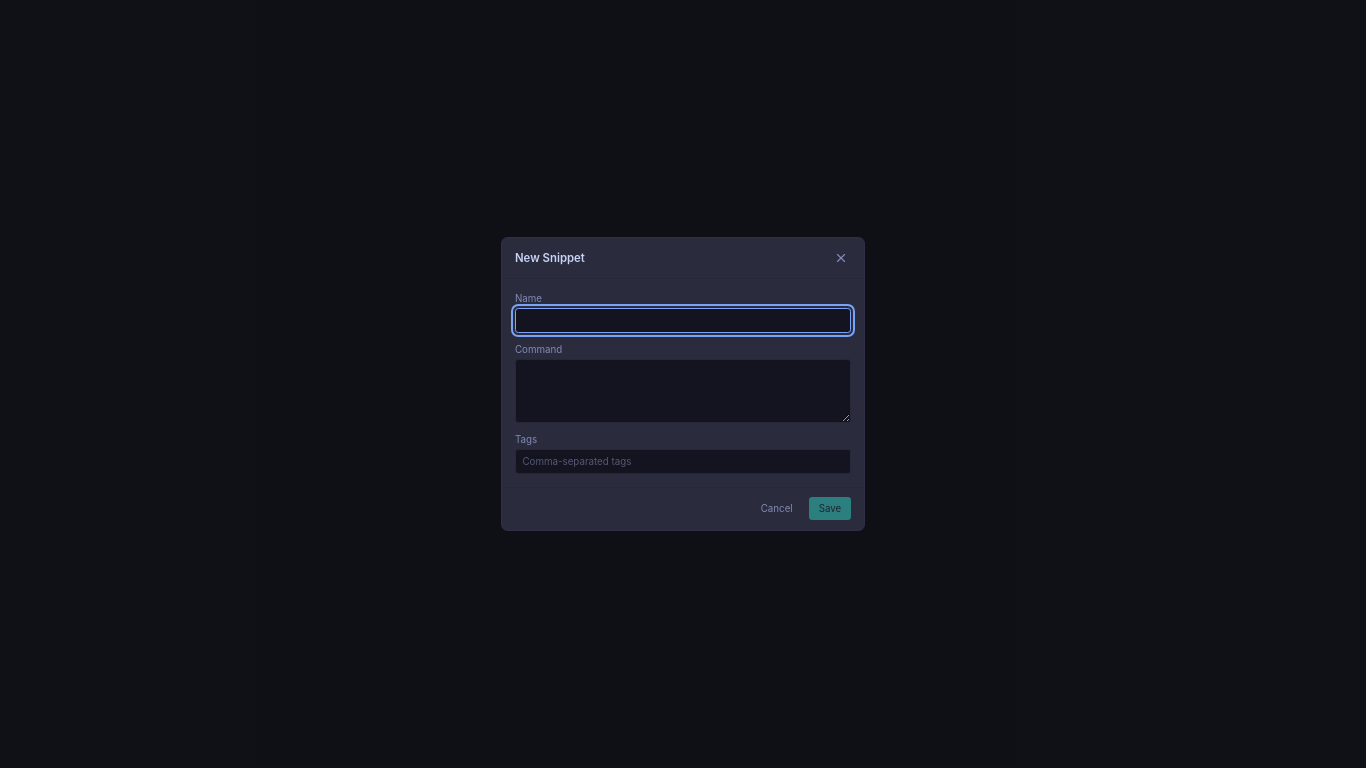
Test: SnippetEditor › enables Save once name and command are both filled in
The width and height of the screenshot is (1366, 768).
Type "My Snippet" into the field labelled "Name" at [683, 321], box left=515, top=308, right=851, bottom=333
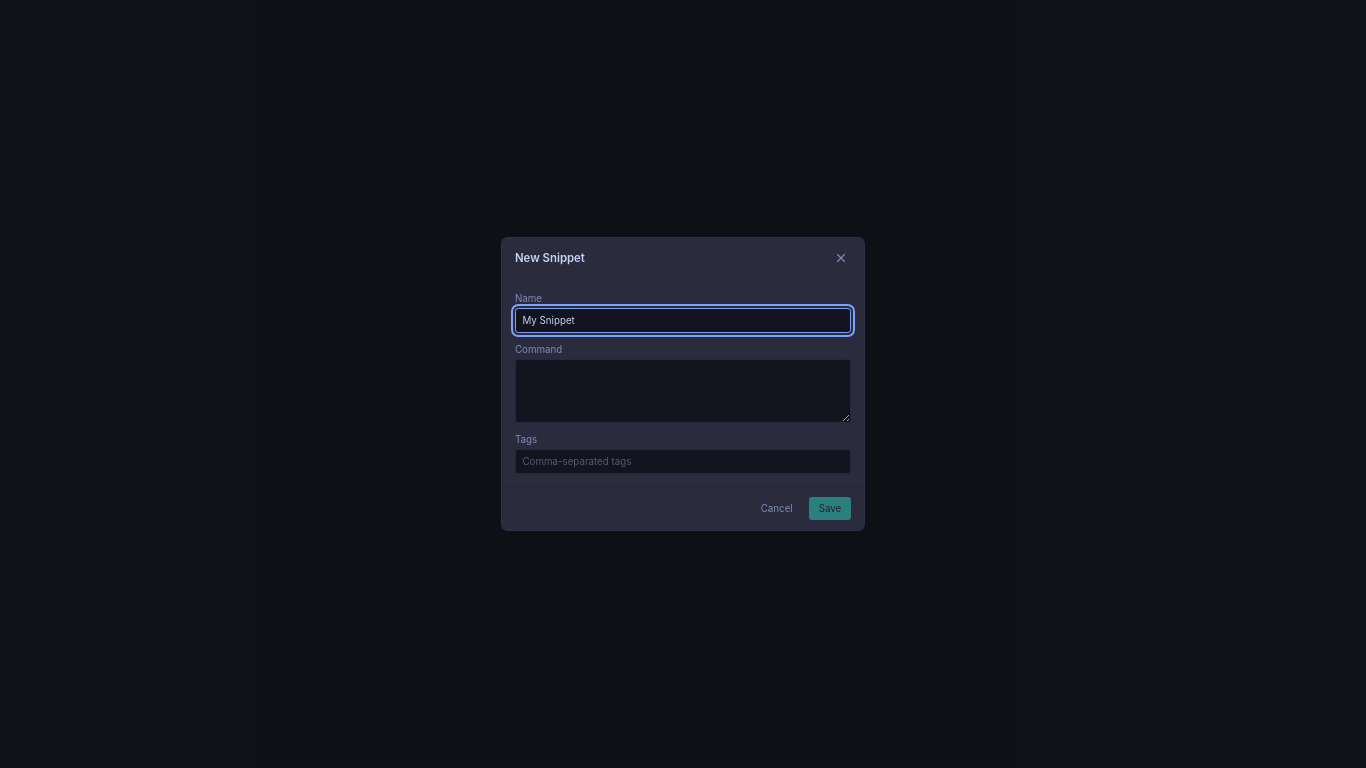
Type "echo hi" into the text box at [683, 391], box left=515, top=359, right=851, bottom=423
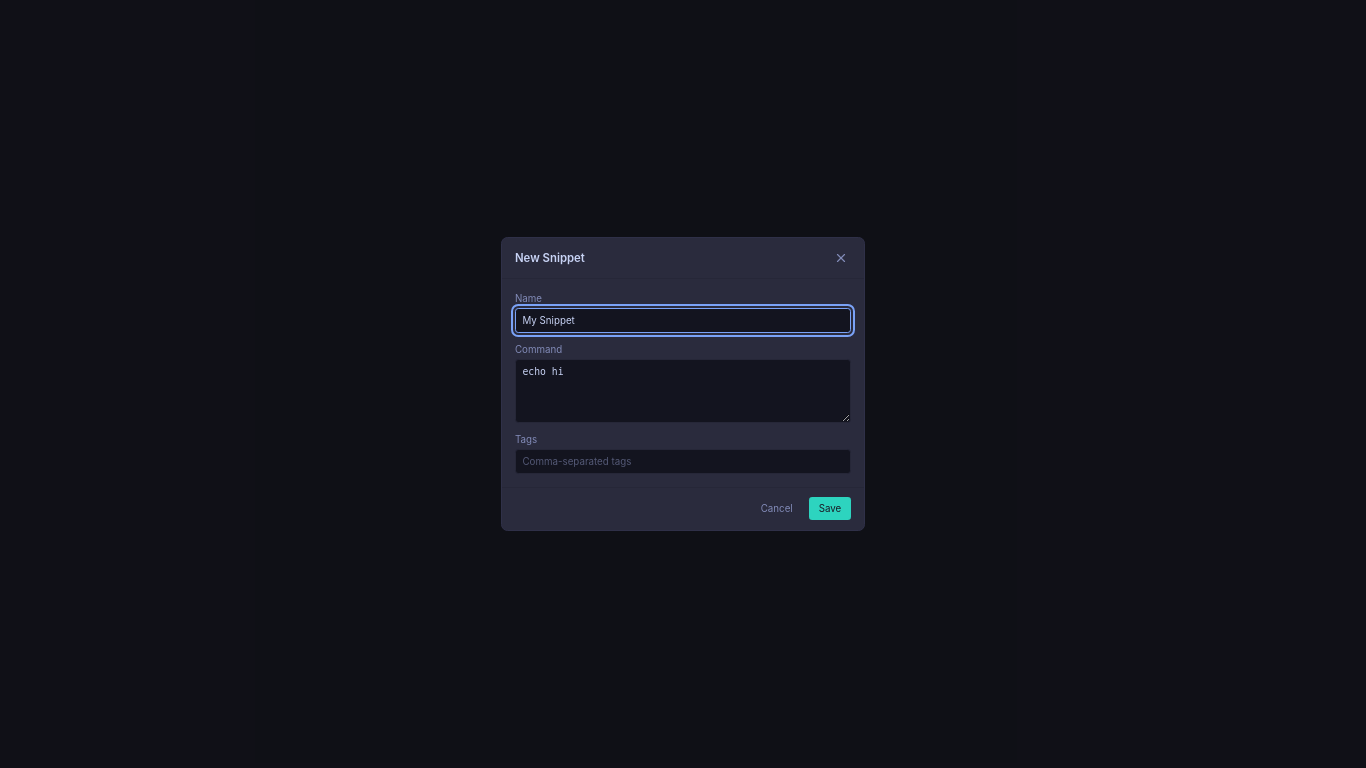
Expected: the button "Save" is enabled, left=809, top=497, right=851, bottom=520
